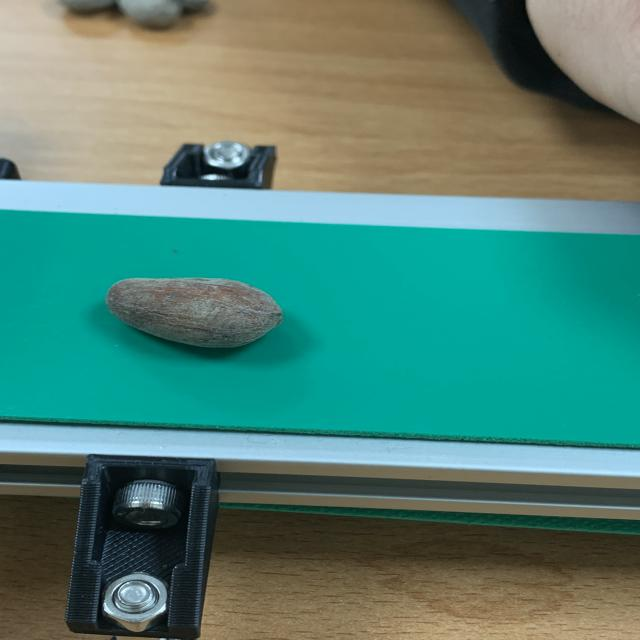Fine_cocoabeans: (38, 252, 372, 408)
